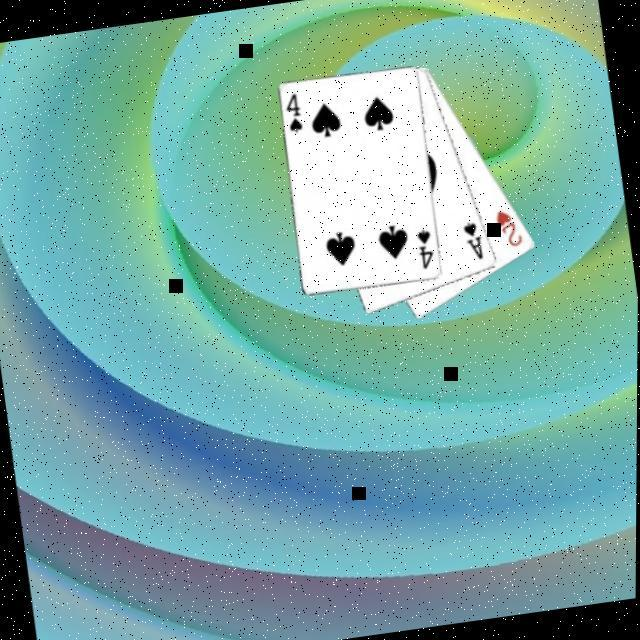2H: (493, 202, 529, 250)
4S: (283, 87, 308, 135), (415, 224, 441, 270)
AS: (462, 215, 489, 262)
